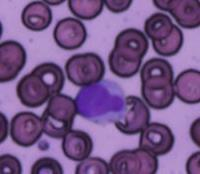M: (75, 78, 127, 124)
